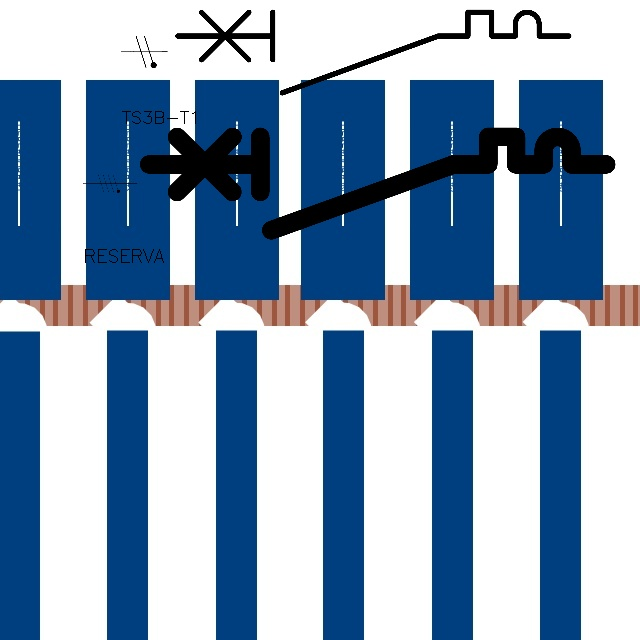interruptor_termomagnetico: (137, 125, 617, 242), (167, 2, 578, 102)
